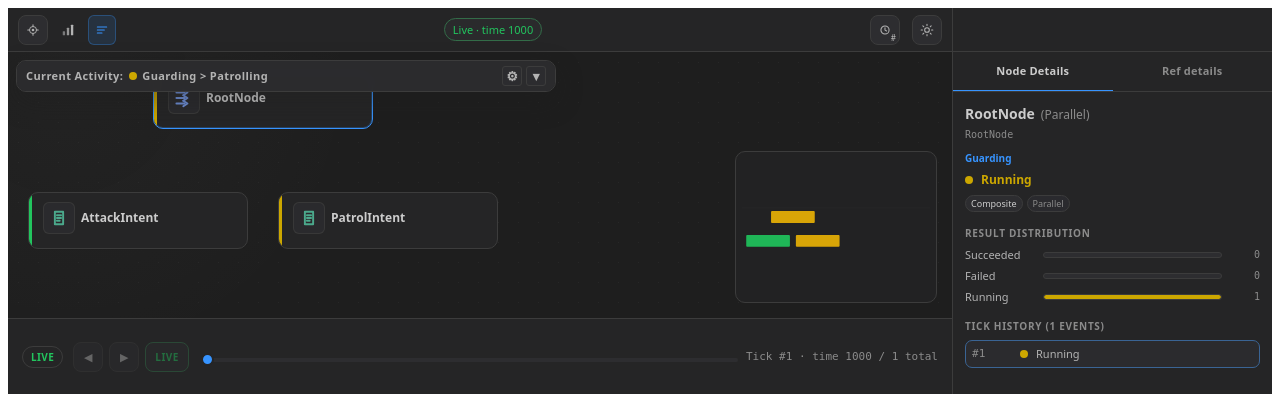
Test: BehaviourTreeDebugger time-travel percentile mode › supports switching activity modes and text source from activity window controls
The image size is (1280, 411).
Click the button named "Expand current activity window".
click(536, 76)  # box [526,66,546,86]
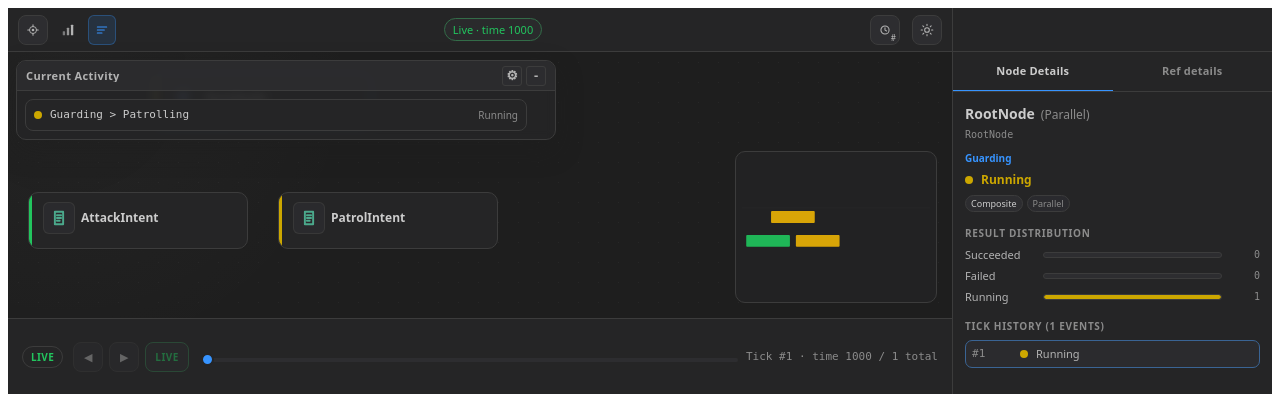
Result: the button titled "Guarding > Patrolling" is shown at [25,99,527,131]
Click the button named "Show activity options menu".
click(512, 76)  # box [502,66,522,86]
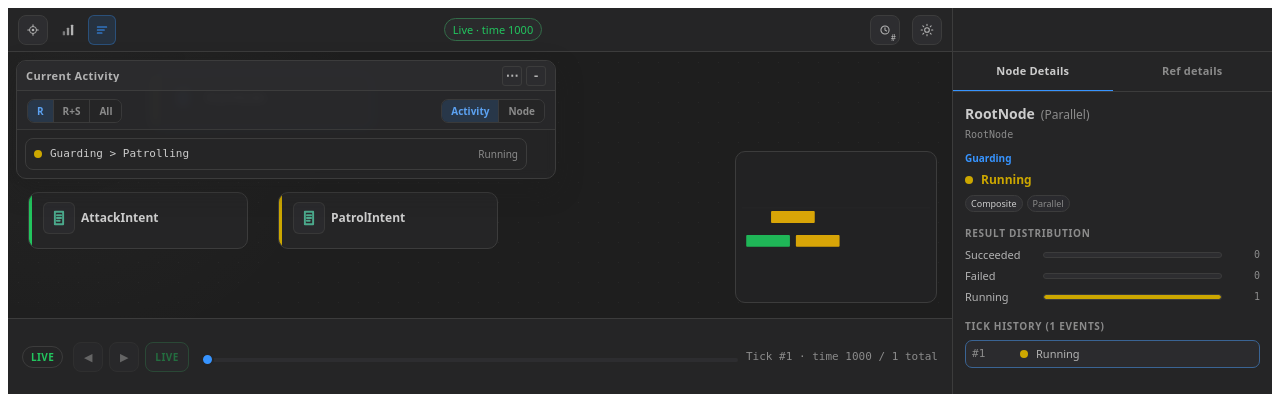
Click the button named "Show running and success activities".
click(72, 111)  # box [54,100,90,122]
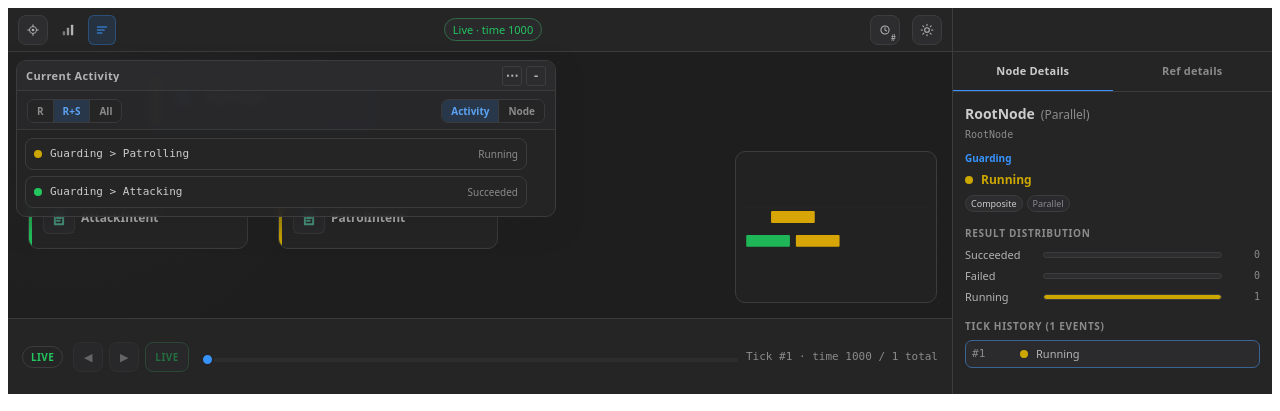
Result: the button titled "Guarding > Attacking" is shown at [25,176,527,208]
Click the button with aria-label "Show node names".
click(522, 111)  # box [499,100,544,122]
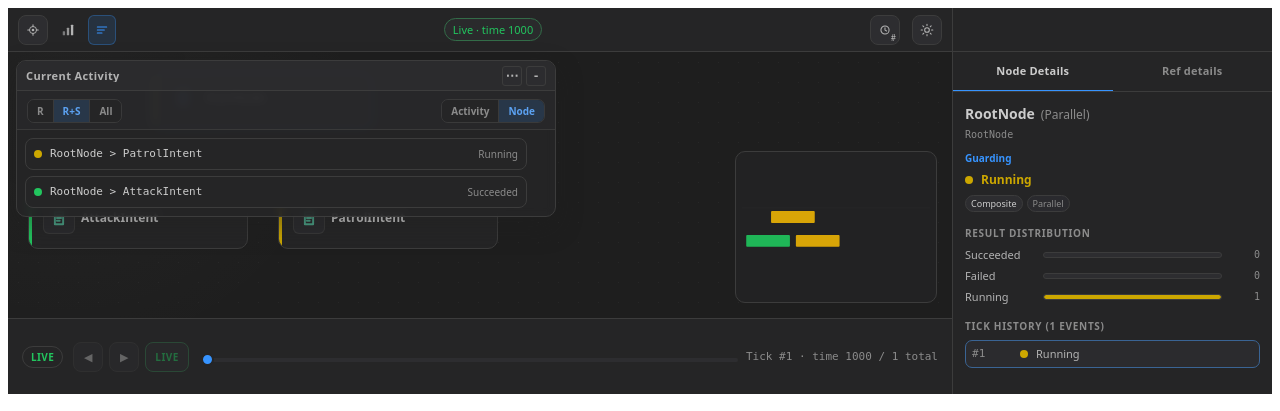
Result: the button titled "RootNode > AttackIntent" is shown at [25,176,527,208]
Result: the button titled "RootNode > PatrolIntent" is shown at [25,138,527,170]
